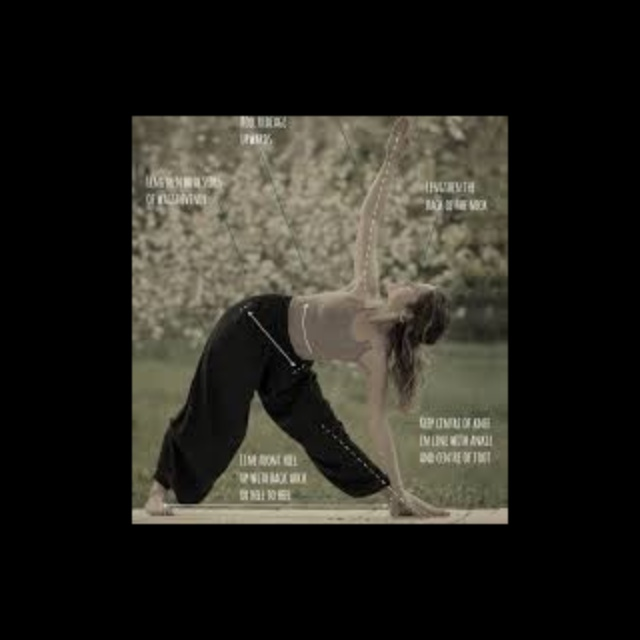Triangle_Pose: (133, 116, 455, 520)
